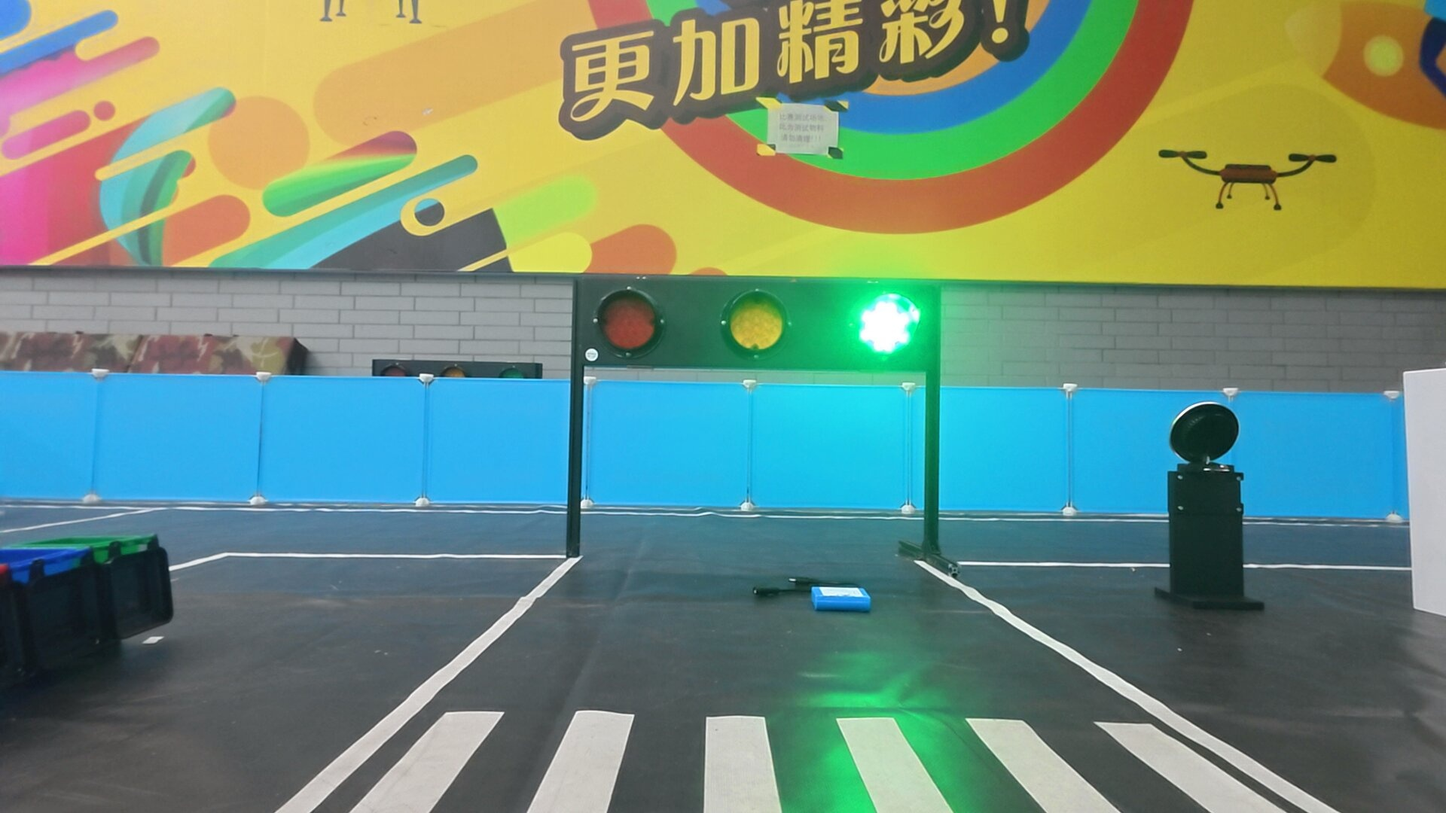go: (852, 288, 927, 365)
